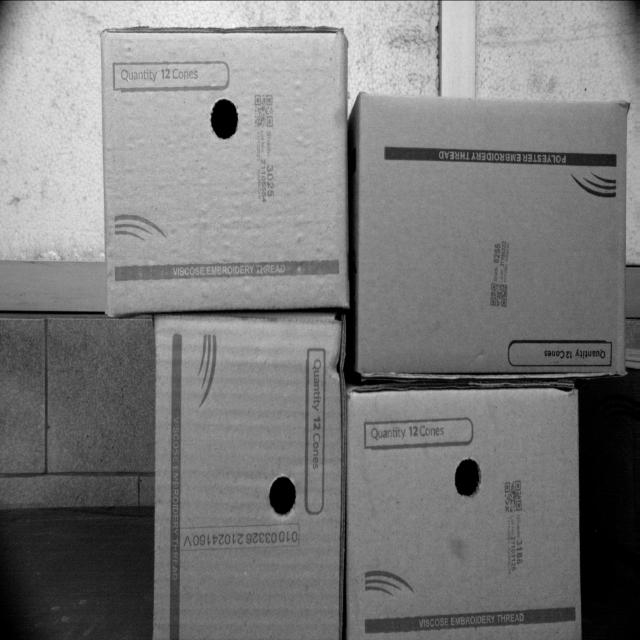cardboxes: (358, 97, 626, 385), (108, 29, 352, 321), (147, 316, 345, 639), (350, 392, 578, 639)
